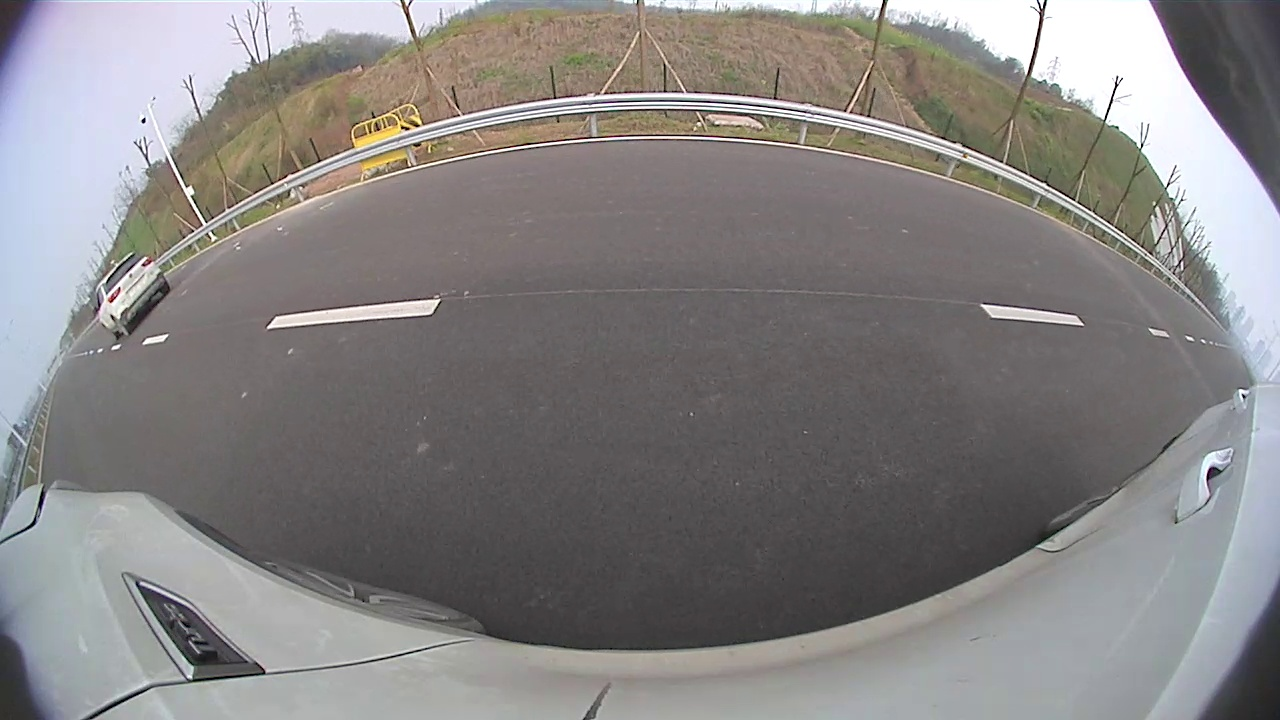car: (95, 251, 170, 338)
rear: (111, 315, 130, 338)
